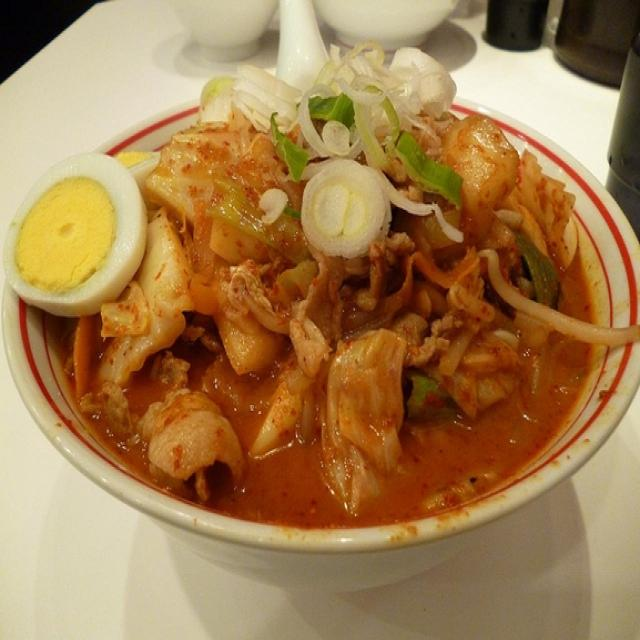面条主食: (11, 44, 629, 586)
